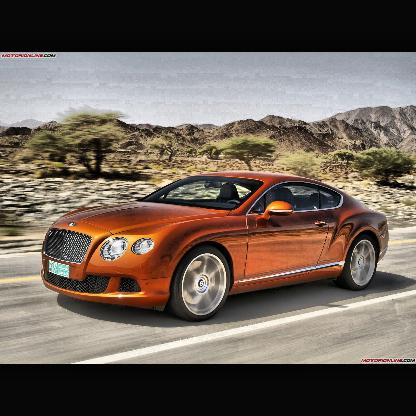Bentley Continental GT Coupe 2012: (41, 175, 389, 322)
